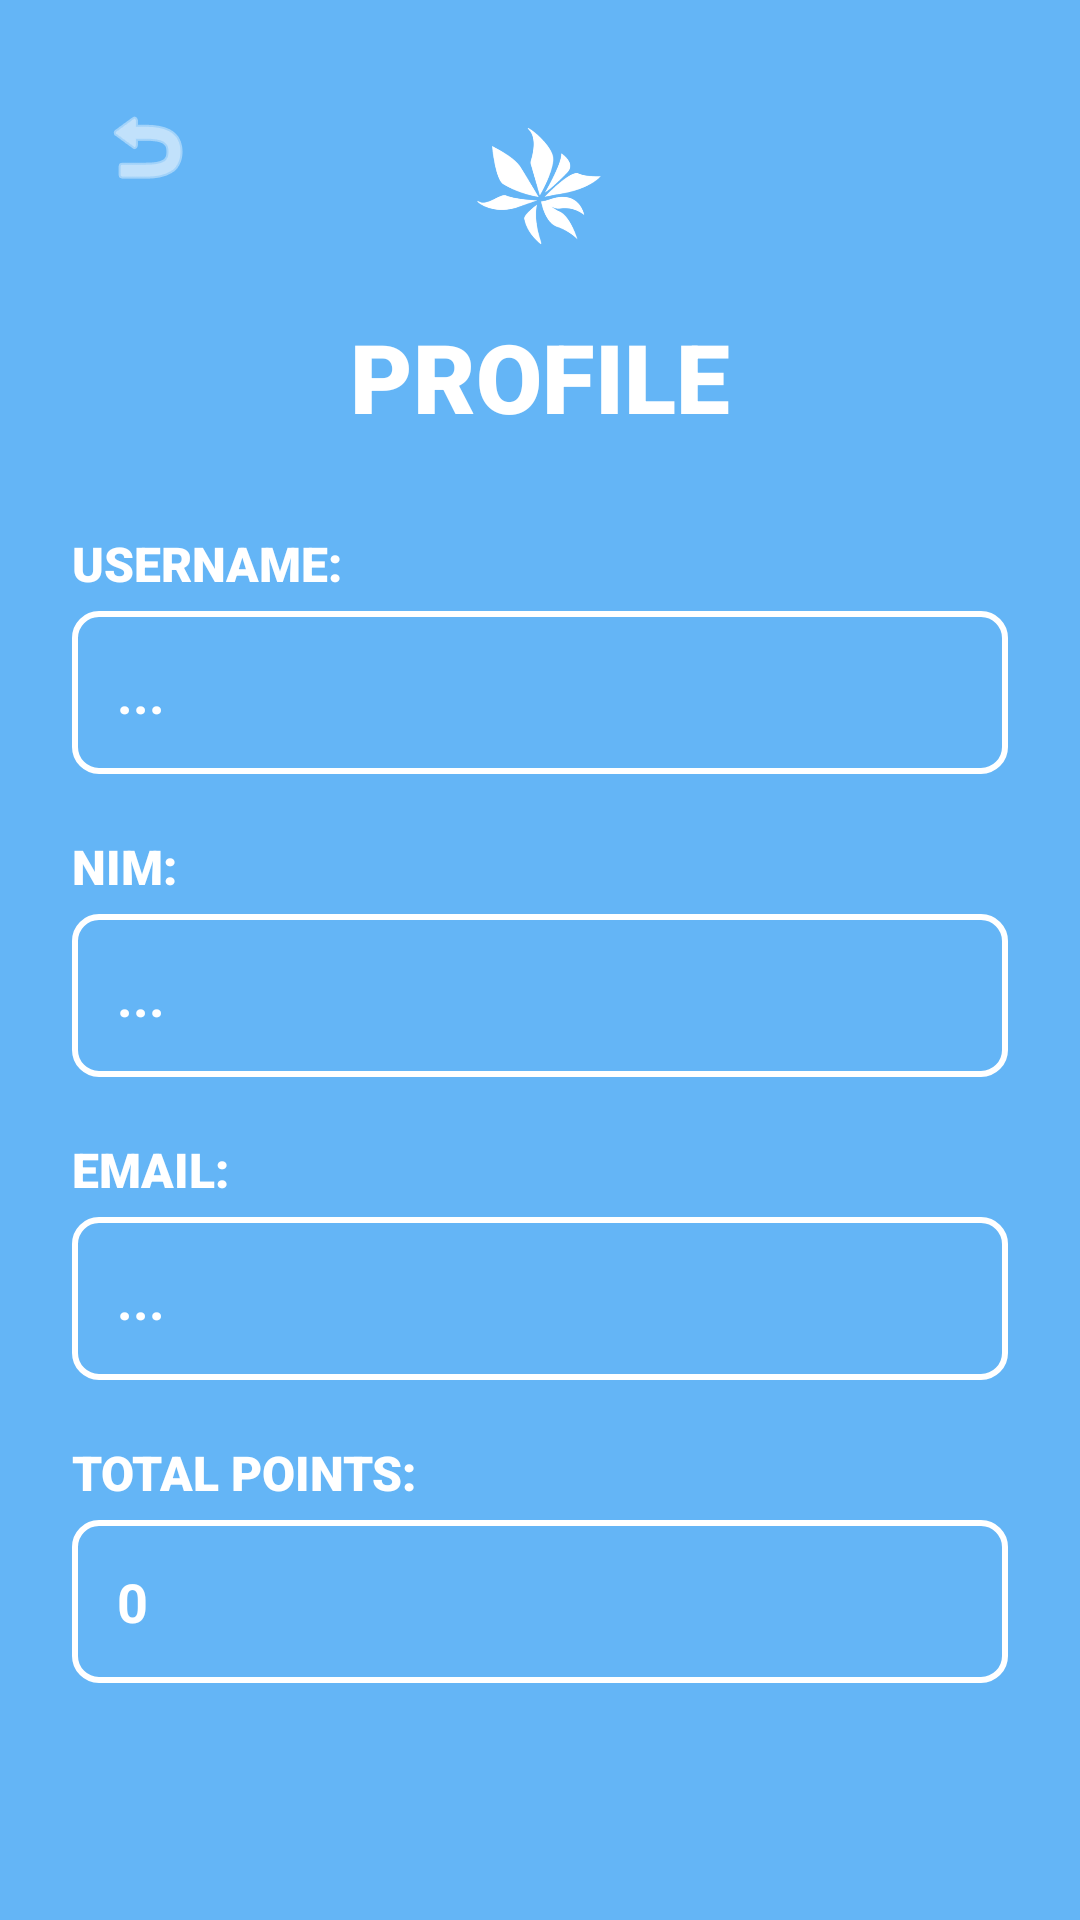

Named icons in this screenshot (1080 x 1920) and their centers, point (x, y):
revert: point (148, 148)
